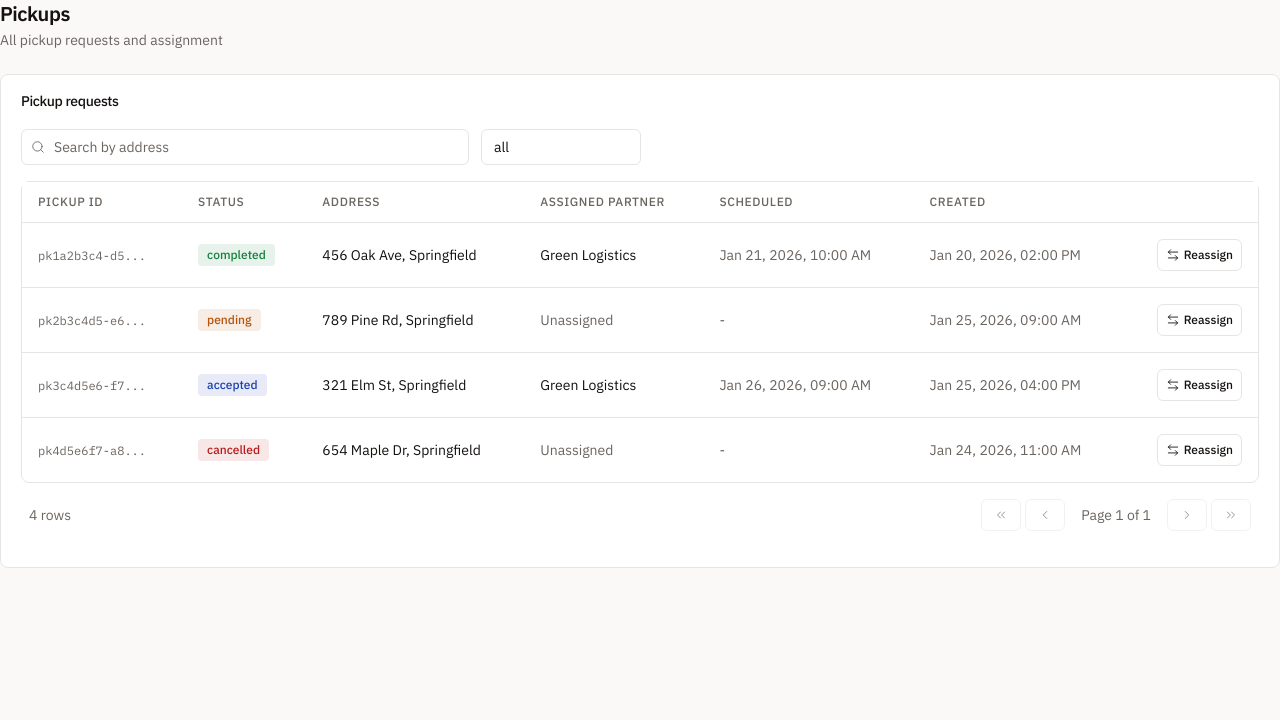
Pickups › opens reassign drawer when reassign button is clicked
expect the heading "Pickup requests" is shown: met, box [21,92,119,110]
What coordinates should you click on to do the following:
click the button "Reassign" in the row of "pk1a2b3c4-d5"
I would click on:
 (1199, 254)
Its box is [1157,238,1242,270].
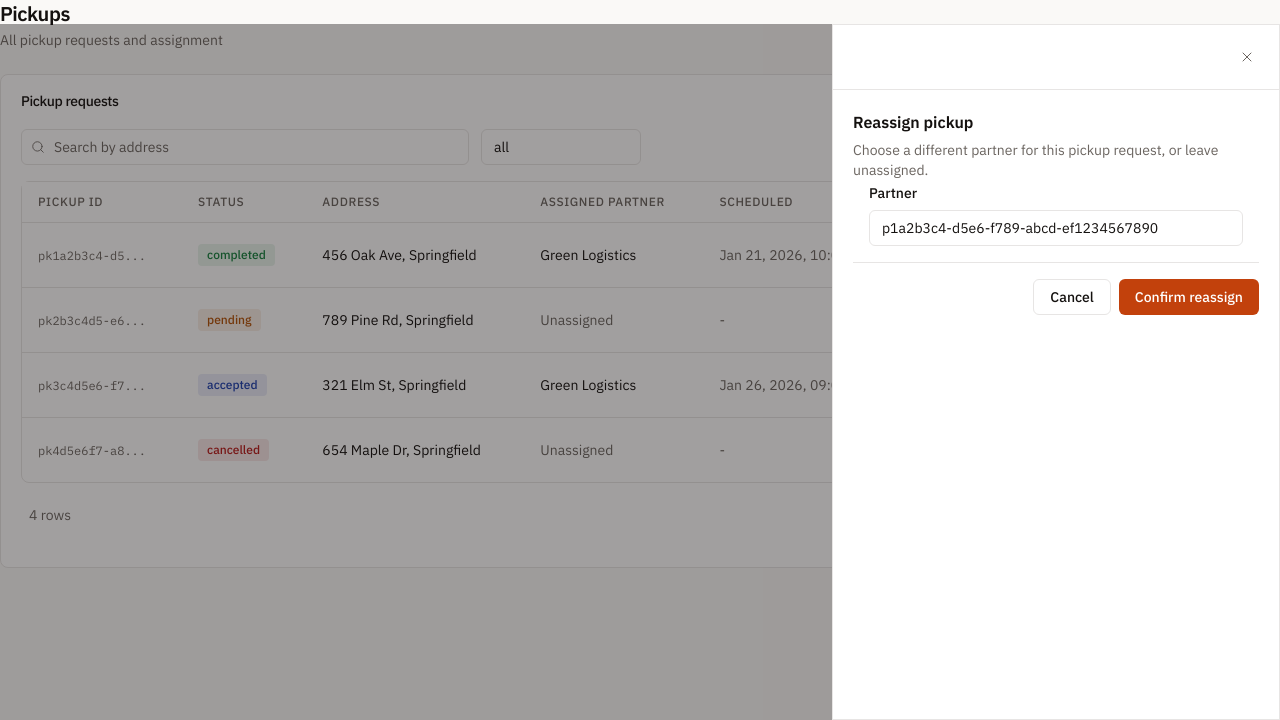
expect the heading "Reassign pickup" is shown: met, box [853,112,974,132]
